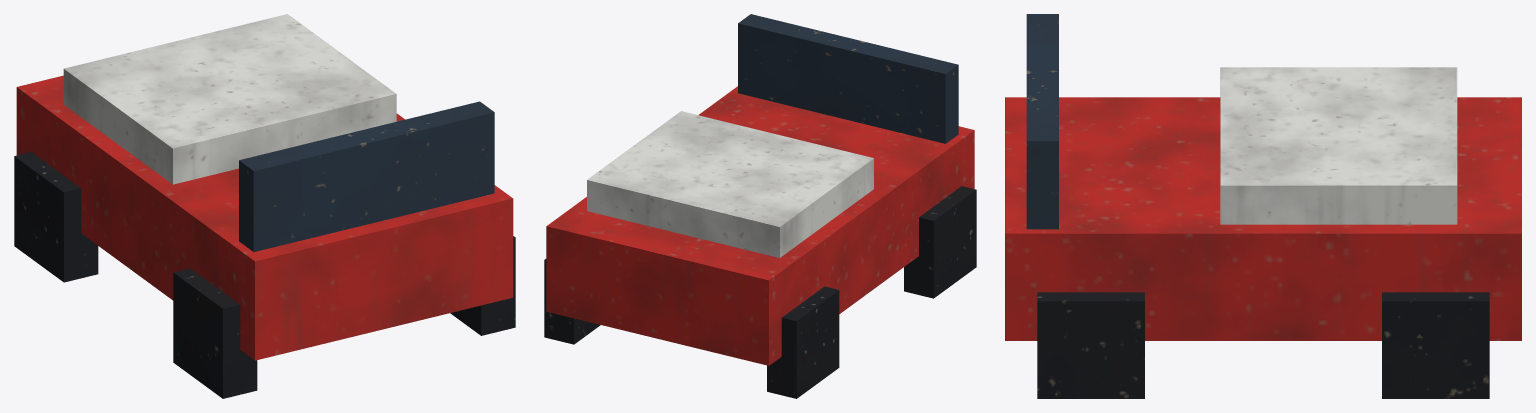
Rendered from Prop_PetitCar_Red.fbx.
The picture shows the model from 3 angles, left to right: view 1: azimuth 30°, elevation 25°; view 2: azimuth 150°, elevation 25°; view 3: azimuth 270°, elevation 25°; orthographic projection. The views are drawn at different scales.
Visible parts, largest first — view 1: PetitCar_Red_Body; view 2: PetitCar_Red_Body; view 3: PetitCar_Red_Body.
Boxes of the visible parts, box(x1,y1,x2,y2) form: PetitCar_Red_Body: box(14, 14, 515, 398); PetitCar_Red_Body: box(544, 14, 976, 398); PetitCar_Red_Body: box(1005, 14, 1521, 398).
Bounding box in the file's own units: 1.7 × 1.25 × 2.4.
